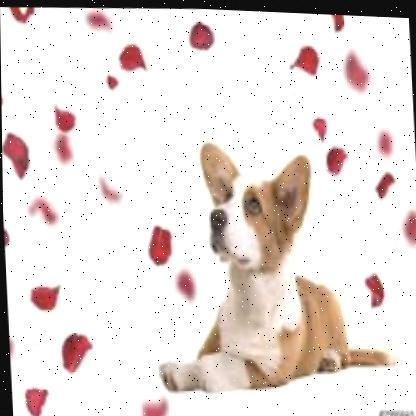dog: (149, 135, 402, 404)
